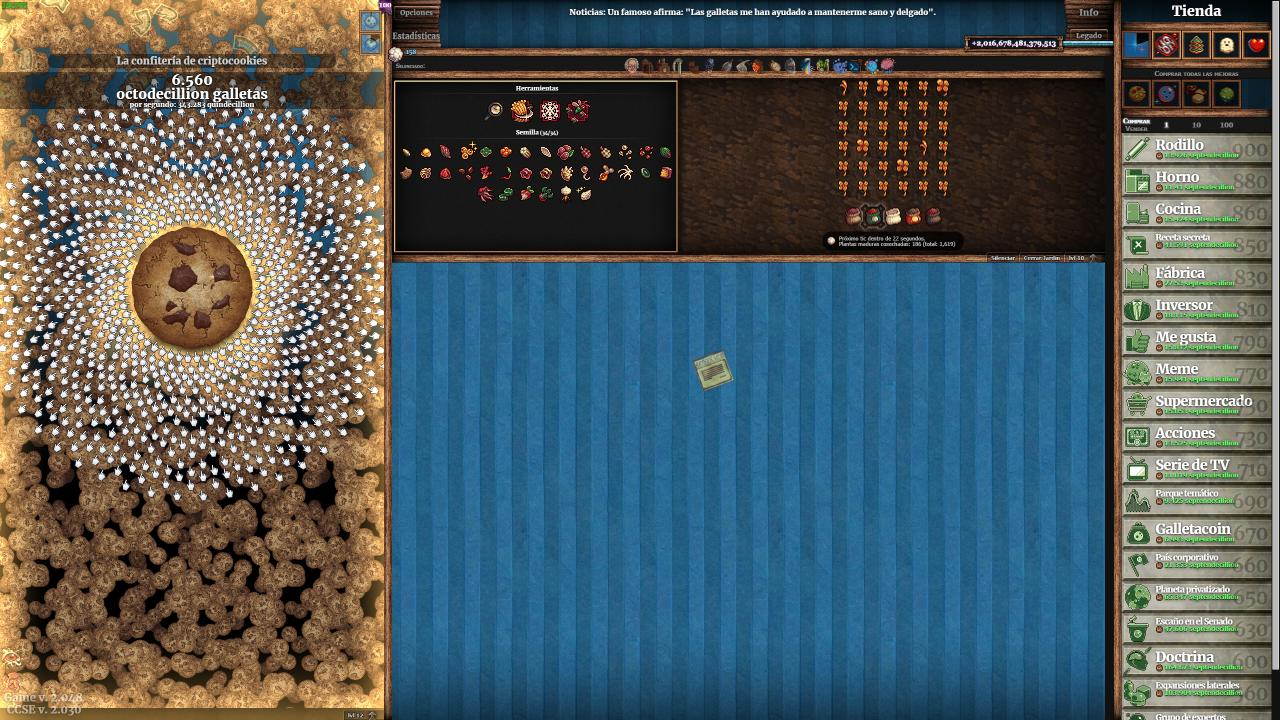GoldenCartridge: (692, 348, 735, 393)
